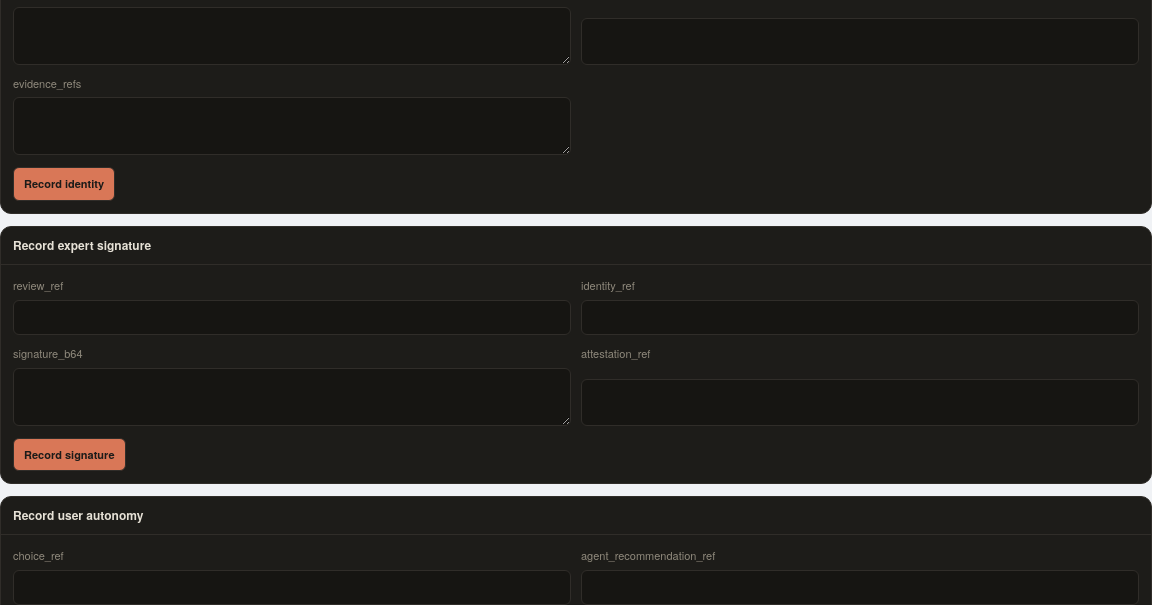
Scenario: TrustDisclosurePanel › blocks expert signature verification without detached signature before making a backend request
(page scrolled)
Type "expert_review:001" into the field with test id "trust-expert-signature-review_ref" at coordinates (292, 317), box [13,300,571,335]
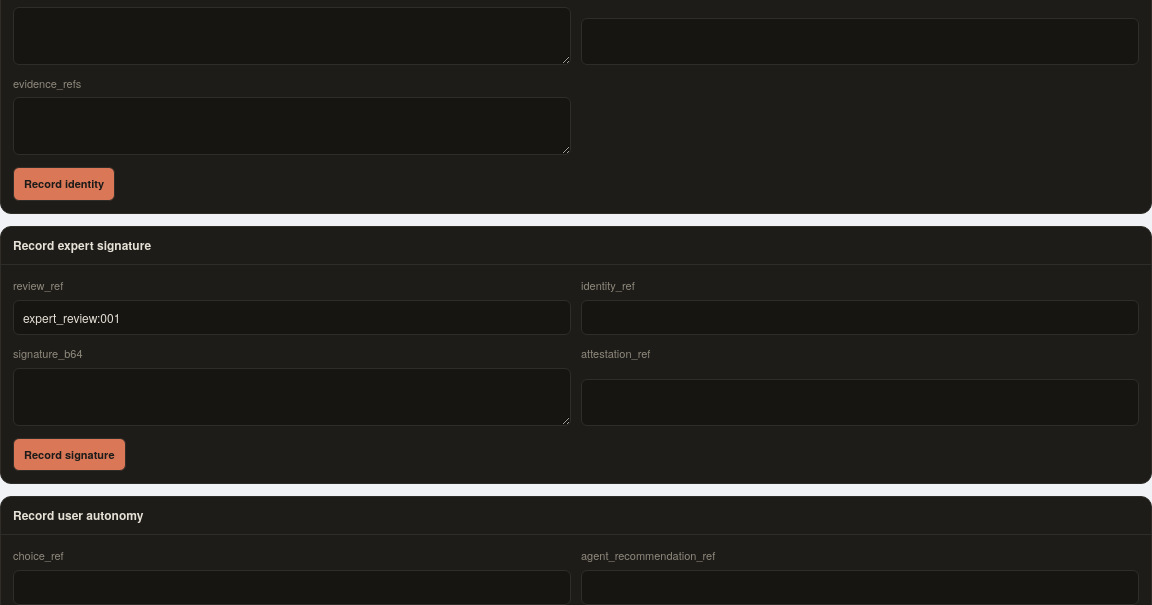
Type "expert_identity:001" into the field with test id "trust-expert-signature-identity_ref" at coordinates (860, 317), box [581,300,1139,335]
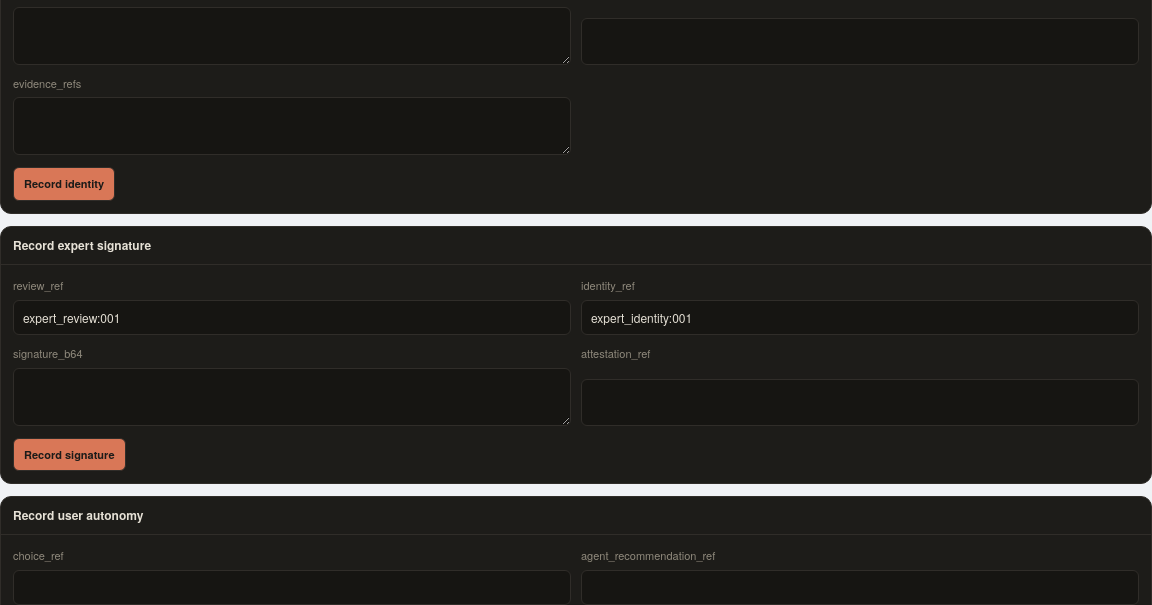
Type "attestation:expert-signature:001" into the field with test id "trust-expert-signature-attestation_ref" at coordinates (860, 402), box [581,379,1139,426]
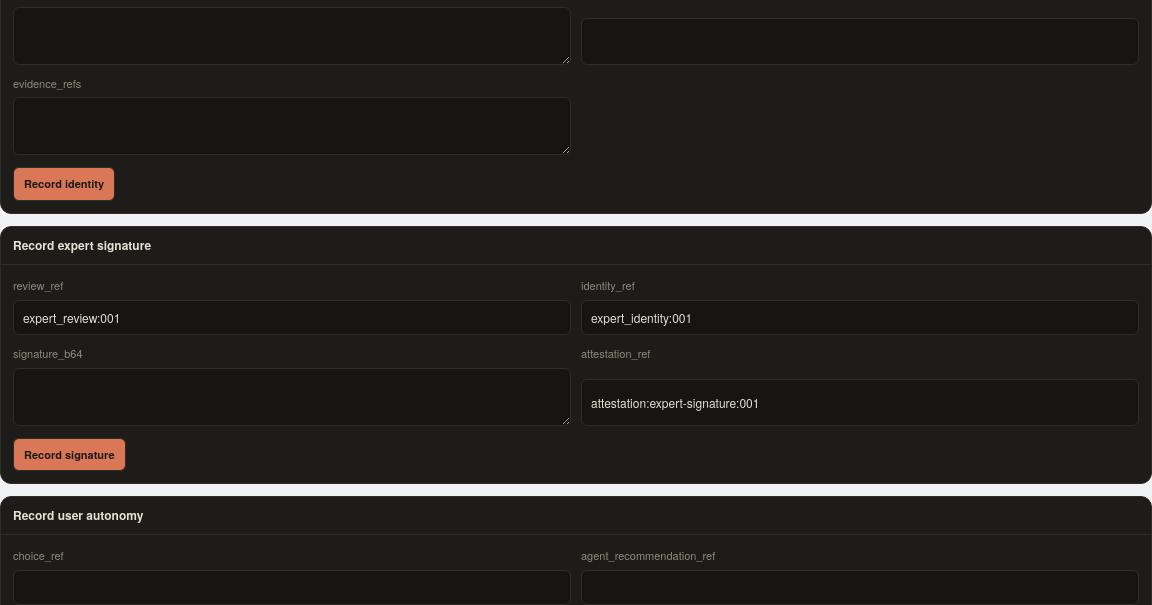
Click the button with test id "trust-record-expert-signature" at coordinates (69, 454), box [13,438,126,471]
(page scrolled)
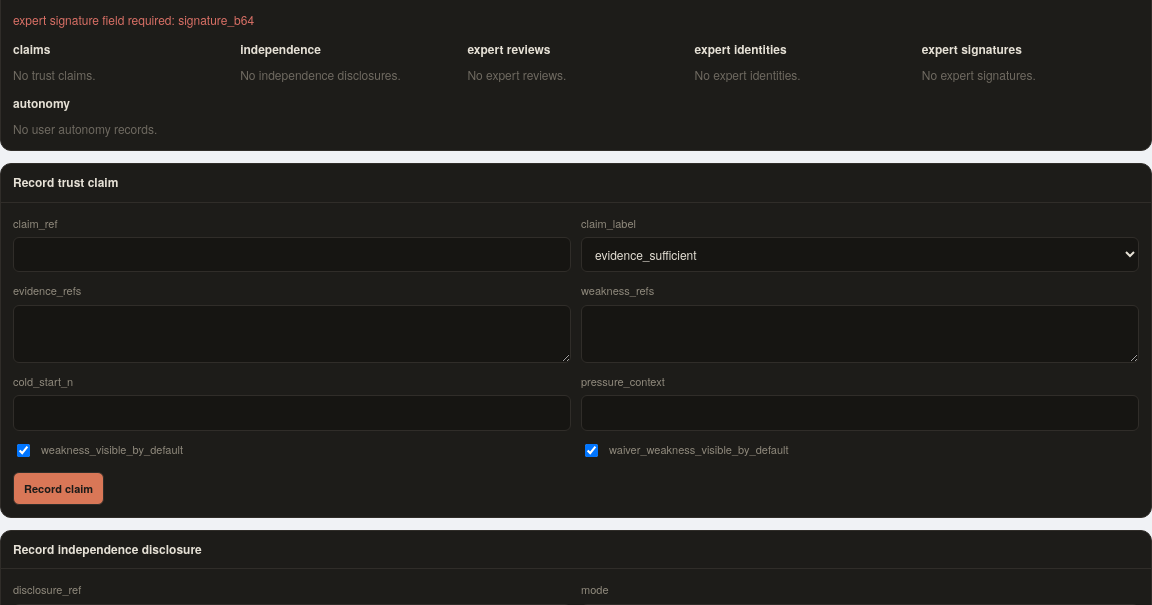
Result: the message with test id "trust-disclosure-error" shows "signature_b64" at [13,11,254,28]
